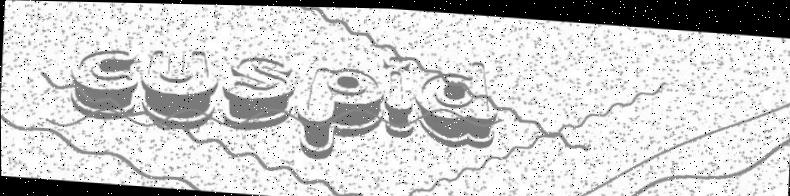c: (67, 45, 139, 120)
d: (411, 54, 499, 151)
i: (378, 52, 417, 137)
p: (294, 62, 386, 164)
s: (219, 52, 296, 133)
u: (137, 44, 221, 130)
